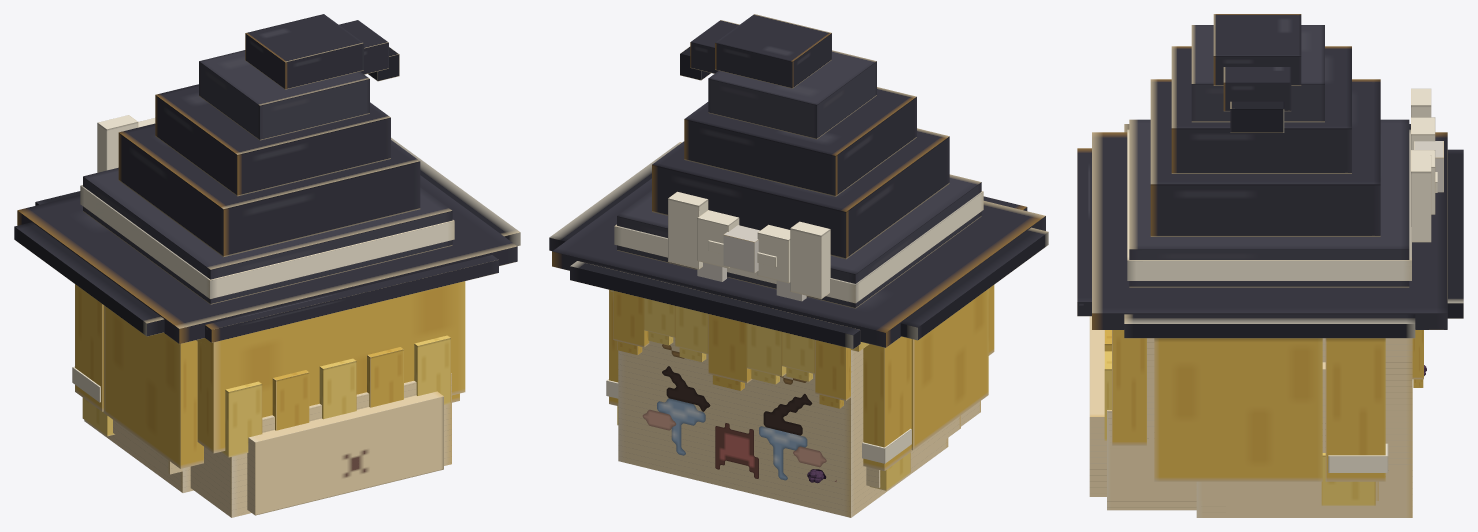
File: leak_marisa_0.obj
The picture shows the model from 3 angles, left to right: view 1: azimuth 30°, elevation 25°; view 2: azimuth 150°, elevation 25°; view 3: azimuth 270°, elevation 25°; orthographic projection. The views are drawn at different scales.
Parts seen in each view (by area): view 1: leak_marisa_0; view 2: leak_marisa_0; view 3: leak_marisa_0.
Part boxes in pixels (x1,y1,x2,y2): leak_marisa_0: (14, 14, 520, 517); leak_marisa_0: (549, 14, 1048, 517); leak_marisa_0: (1077, 14, 1463, 517).
Size of the model in its own units: 19 by 19.34 by 15.53.
Materials: 1 (1 with a texture image).
